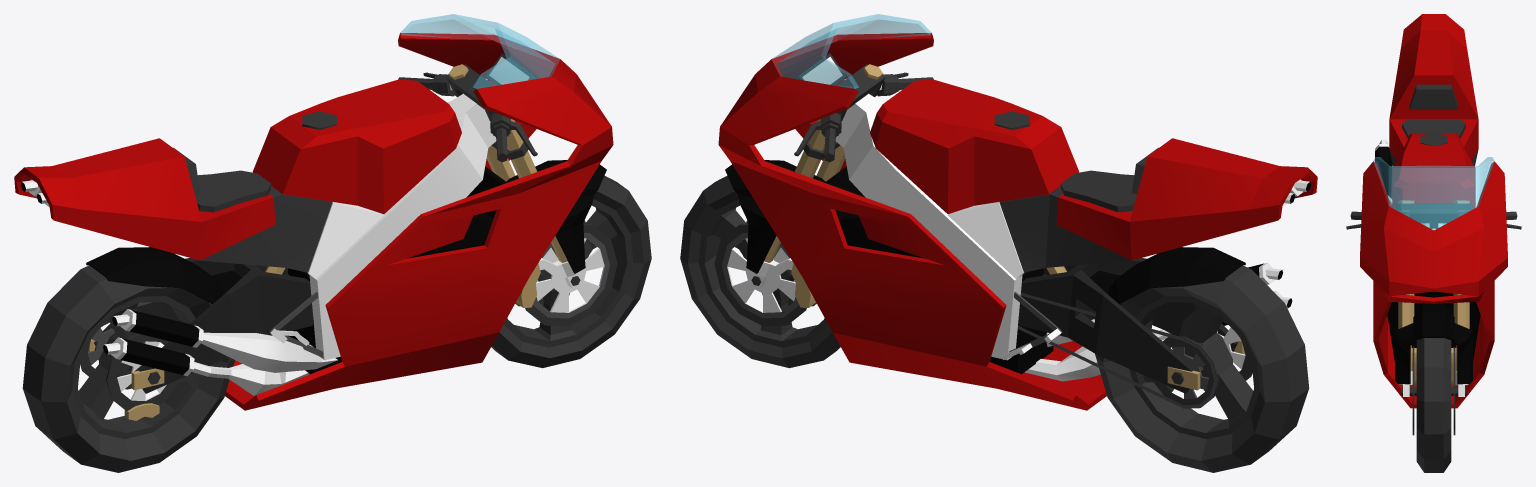
File: cagiva_v593.glb
3 views of the same model, side by side, from view 1: azimuth 30°, elevation 25°; view 2: azimuth 150°, elevation 25°; view 3: azimuth 270°, elevation 25° (orthographic). The views are drawn at different scales.
Visible parts, largest first — view 1: Plane004, Box003, Box001, Tube002, Box002, Box004__0, Tube004, Object003_03 - Default_0, Cylinder011, Object001_09 - Default_0, Object002_03 - Default_0, Tube005 (+11 smaller); view 2: Plane004, Box003, Box001, Tube002, Box002, Box004__0, Object003_03 - Default_0, Tube004, Object001_09 - Default_0, Object002_03 - Default_0, Tube005, Cylinder007 (+10 smaller); view 3: Plane004, Box003, Object001_09 - Default_0, Box001, Tube004, Object004_03 - sd_0, Cylinder002, Box009, Box006, Box005, Cylinder004_03 - Default_0, Cylinder011 (+4 smaller).
Boxes of the visible parts, bbox=[...] form: Plane004: bbox=[225, 33, 613, 410]; Box003: bbox=[14, 138, 332, 272]; Box001: bbox=[252, 79, 461, 214]; Tube002: bbox=[22, 265, 234, 472]; Box002: bbox=[307, 93, 496, 360]; Box004__0: bbox=[94, 258, 312, 393]; Tube004: bbox=[491, 175, 651, 368]; Object003_03 - Default_0: bbox=[72, 296, 200, 439]; Cylinder011: bbox=[112, 309, 337, 372]; Object001_09 - Default_0: bbox=[400, 14, 559, 88]; Object002_03 - Default_0: bbox=[504, 199, 633, 347]; Tube005: bbox=[86, 247, 241, 304]; Plane004: bbox=[718, 33, 1106, 410]; Box003: bbox=[999, 138, 1317, 272]; Box001: bbox=[870, 79, 1079, 214]; Tube002: bbox=[1095, 265, 1309, 472]; Box002: bbox=[835, 93, 1024, 360]; Box004__0: bbox=[1019, 258, 1237, 393]; Object003_03 - Default_0: bbox=[1129, 296, 1259, 439]; Tube004: bbox=[680, 175, 840, 368]; Object001_09 - Default_0: bbox=[772, 14, 931, 88]; Object002_03 - Default_0: bbox=[698, 199, 827, 347]; Tube005: bbox=[1090, 247, 1245, 304]; Cylinder007: bbox=[714, 220, 816, 326]; Plane004: bbox=[1360, 161, 1507, 408]; Box003: bbox=[1389, 14, 1478, 166]; Object001_09 - Default_0: bbox=[1373, 157, 1494, 229]; Box001: bbox=[1392, 134, 1475, 208]; Tube004: bbox=[1416, 338, 1451, 472]; Object004_03 - sd_0: bbox=[1395, 304, 1472, 384]; Cylinder002: bbox=[1398, 200, 1469, 396]; Box009: bbox=[1387, 291, 1480, 361]; Box006: bbox=[1409, 84, 1458, 109]; Box005: bbox=[1402, 119, 1465, 138]; Cylinder004_03 - Default_0: bbox=[1346, 203, 1521, 229]; Cylinder011: bbox=[1375, 139, 1392, 204].
Bounding box in the file's own units: 61.61 × 33.53 × 19.25.
